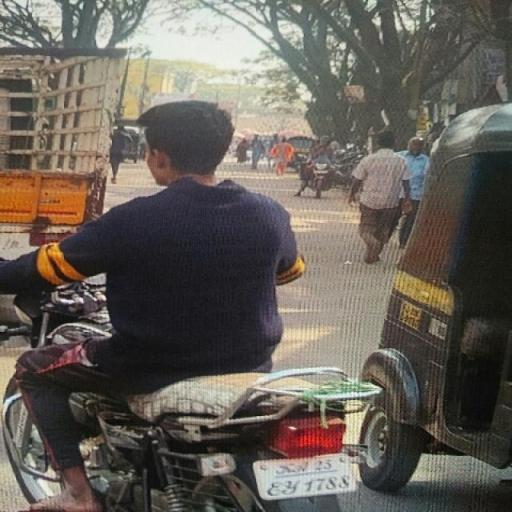bike: (9, 93, 384, 512)
numberplate: (252, 446, 358, 506)
withouthelmet: (136, 99, 232, 178)
